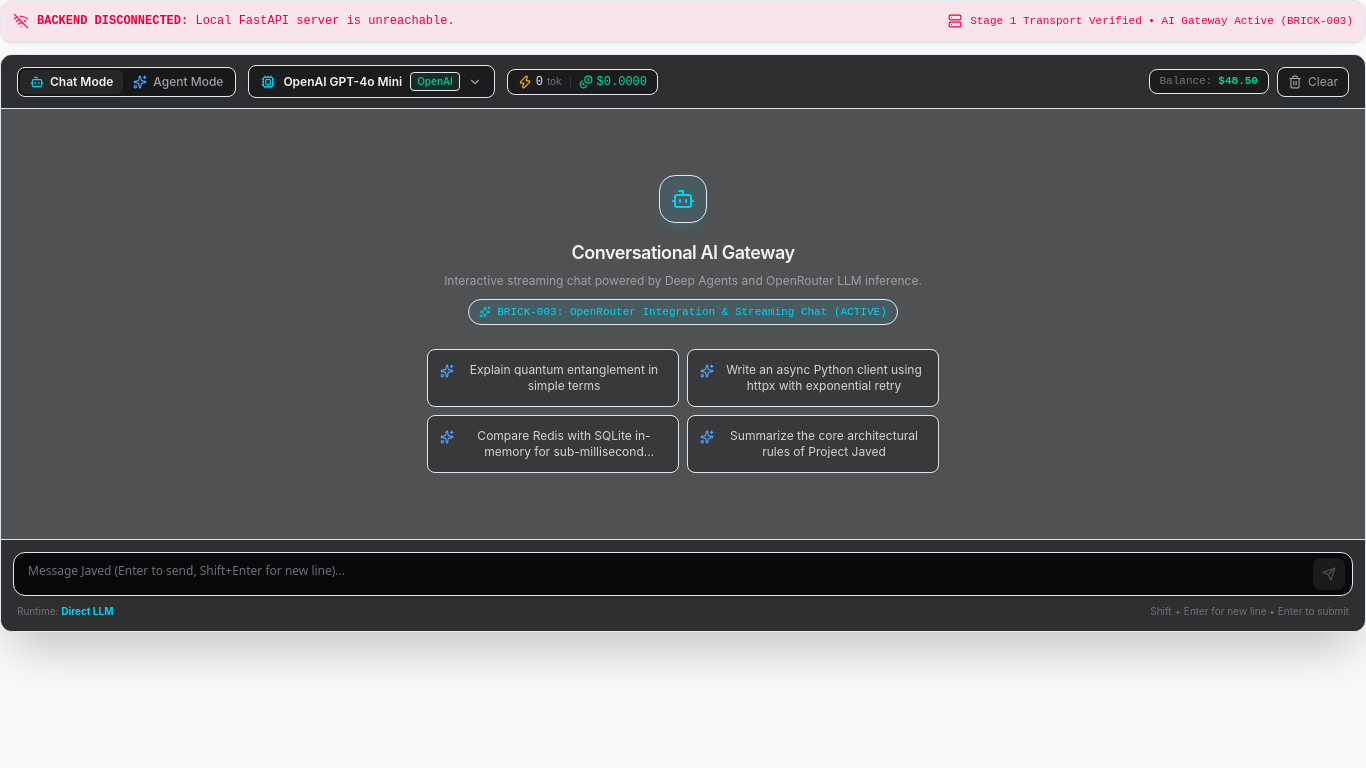
it: ChatView Full-Stack Integration › submits a message and handles token streaming lifecycle
The width and height of the screenshot is (1366, 768).
Type "Test prompt" into the text box with placeholder "Message Javed (Enter to send, Shift+Enter for new line)...". click: (683, 574)
box: [13,552,1353,596]
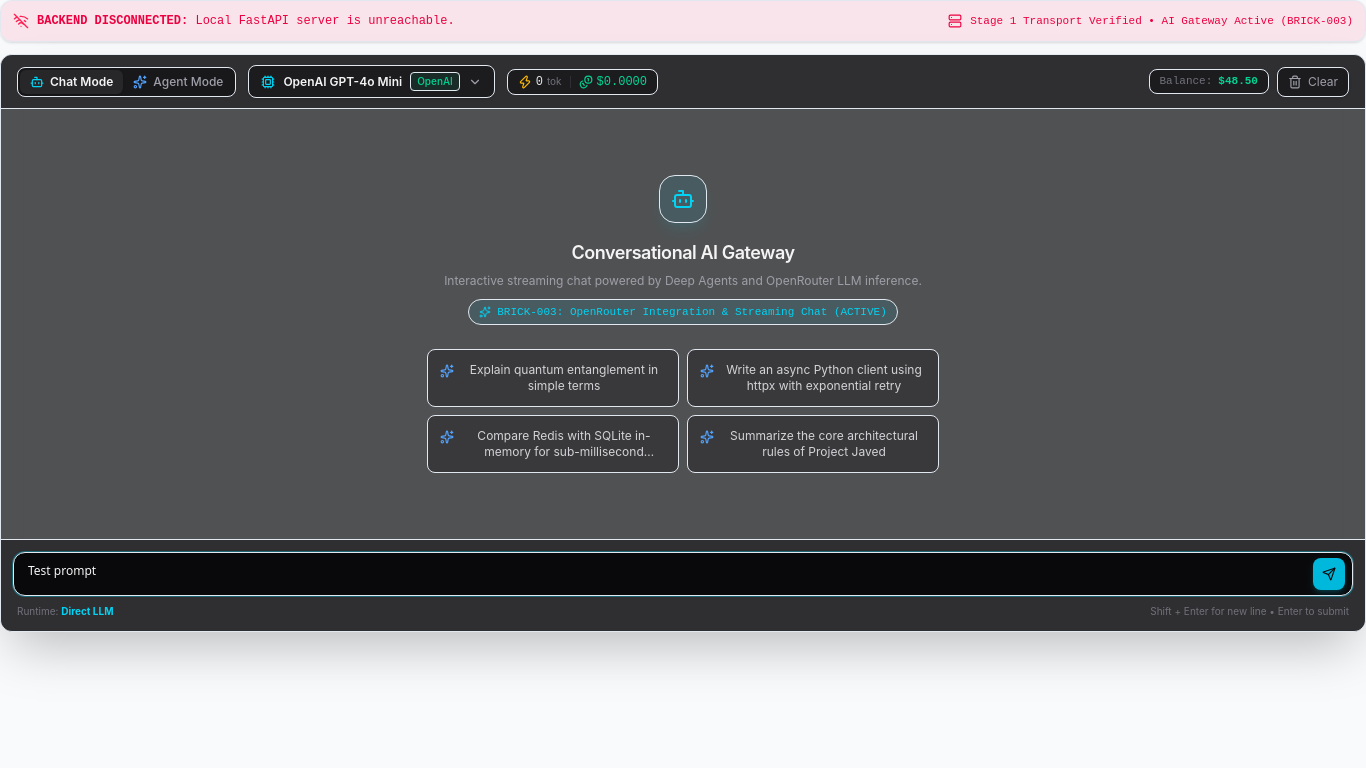
Click the button named "send message". click: click(1329, 574)
box: [1313,558,1345,590]
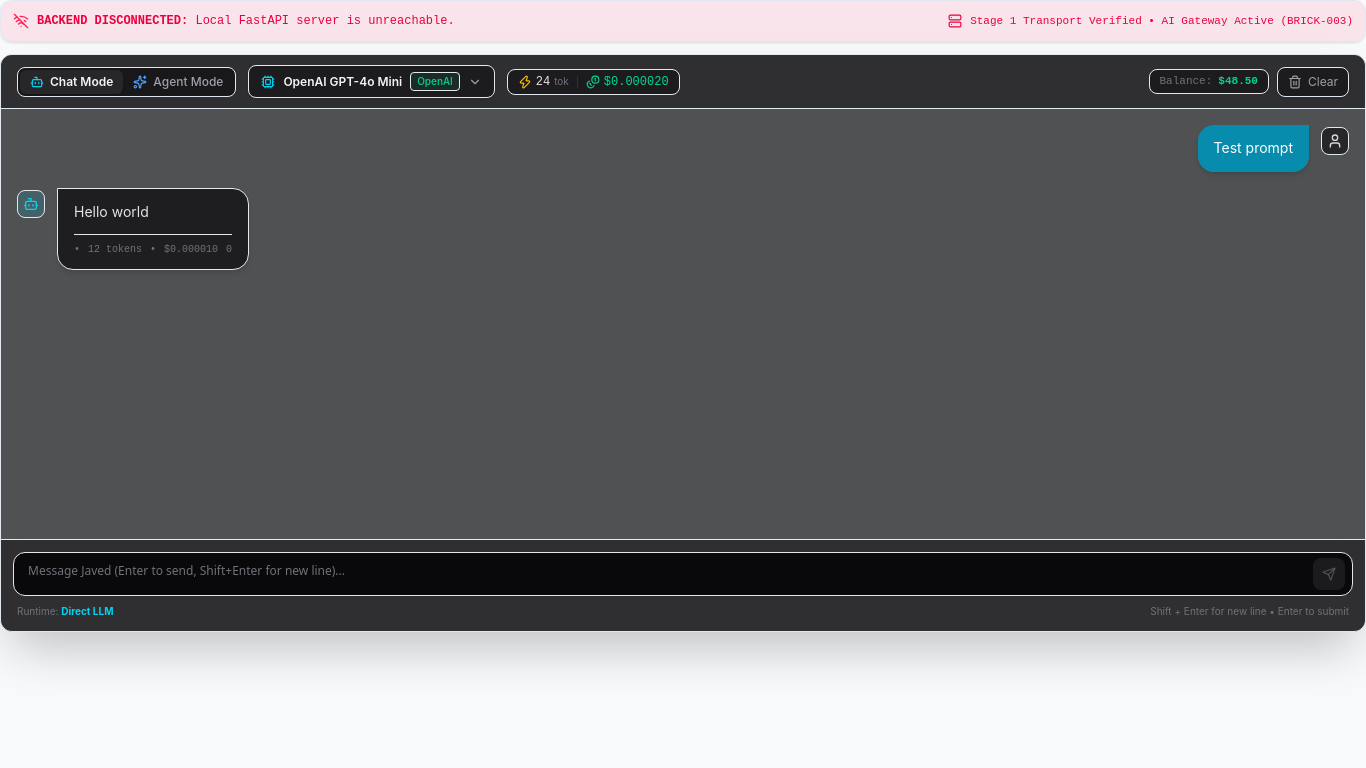
Now the text "Test prompt" is shown, box [1214,137,1293,160]
Now the text "Hello world" is shown, box [74,203,149,220]
Now the text "12 tokens" is shown, box [88,243,142,257]
